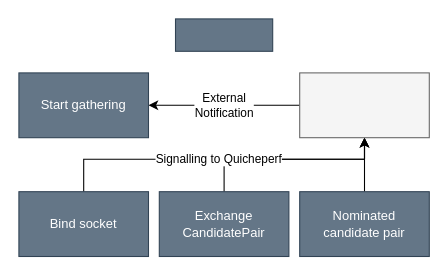
Image size: 448x275. Some labels were removed from this diagram. The centre of each missing label's shape, as x and y in pixels:
ICE AGENT: point (223, 34)
Quicheperf: point (364, 105)
